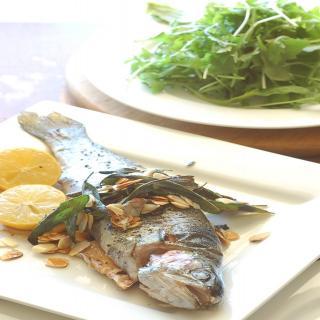Lemon: (1, 186, 69, 228), (1, 152, 61, 188)
